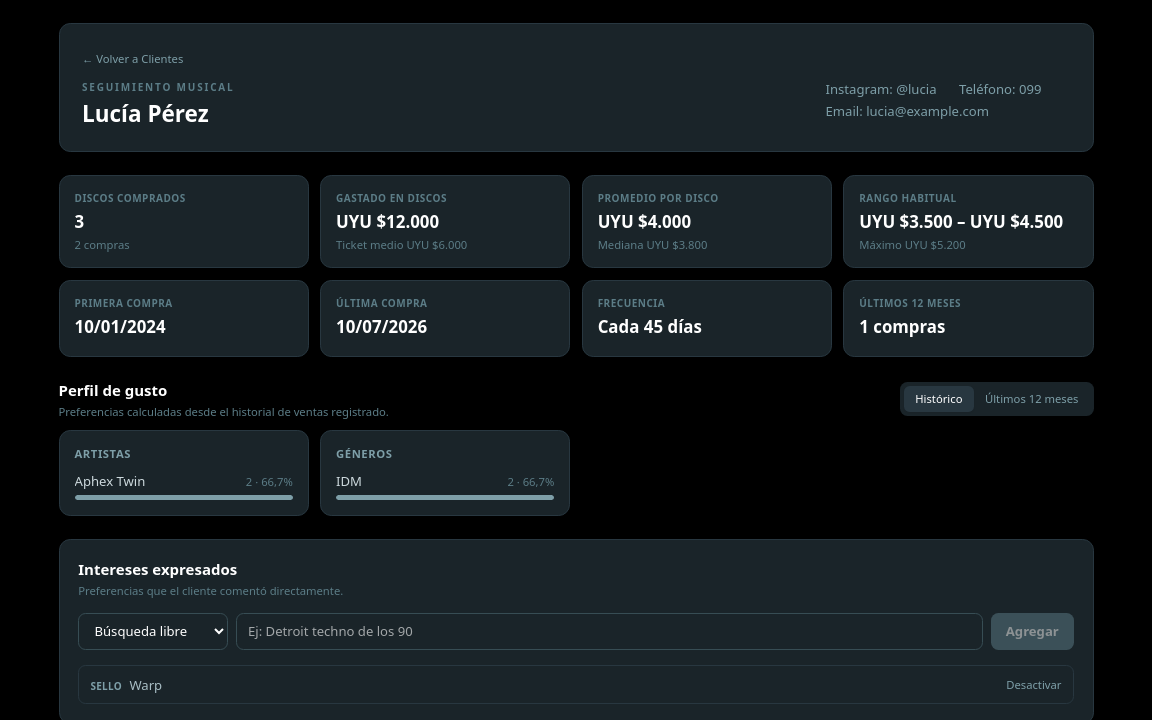
ClienteSeguimiento › renders metrics, historical/recent taste, purchase history and explained recommendations
expect the heading "Lucía Pérez" is shown: met, box x1=82 y1=98 x2=209 y2=128
expect the text "3" is shown: met, box x1=74 y1=210 x2=84 y2=233
Click the button "Últimos 12 meses".
click(1032, 399)  # box x1=974 y1=386 x2=1090 y2=412
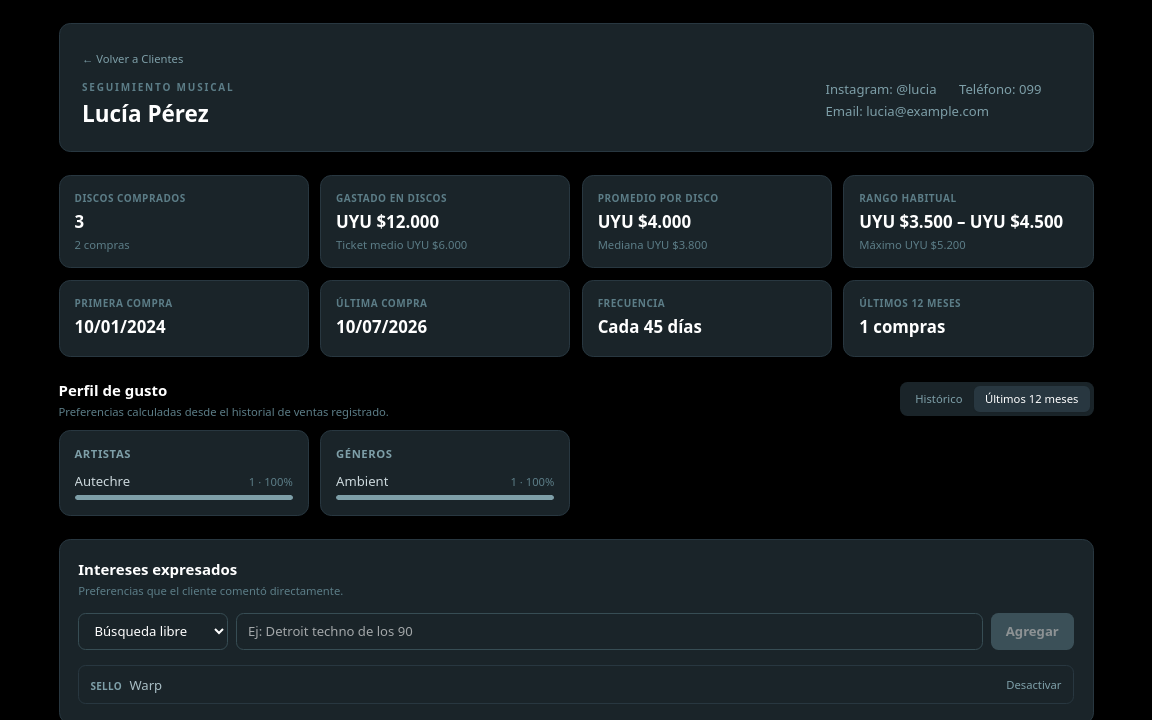
expect the text "Autechre" is shown: met, box x1=74 y1=472 x2=130 y2=491
expect the text "IDM" is gone: met
